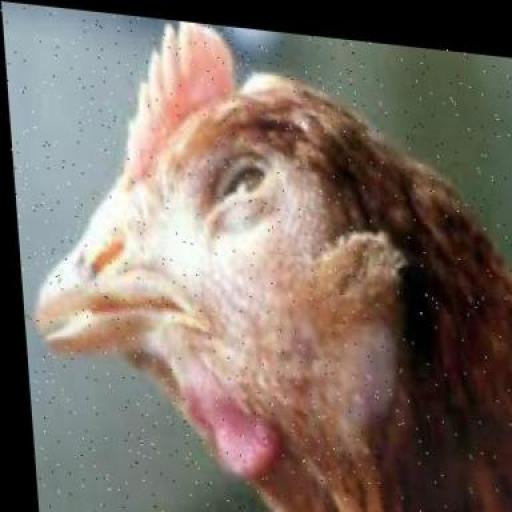disease: (112, 104, 353, 366)
